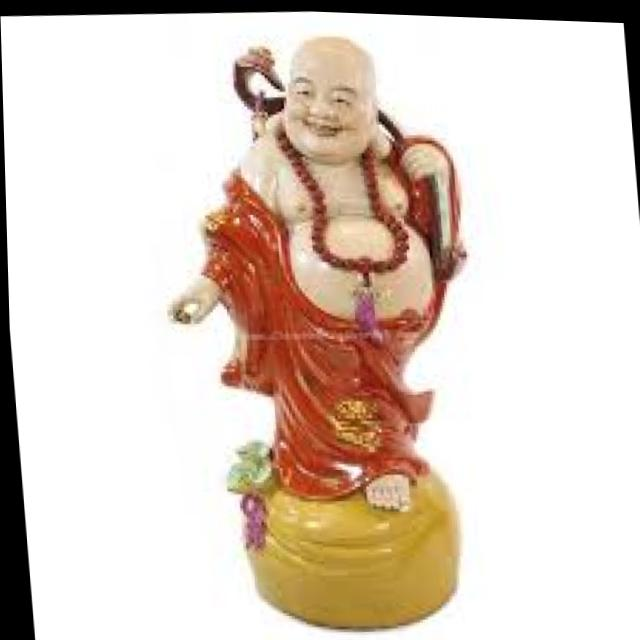Smiling Buddha: (182, 9, 481, 477)
